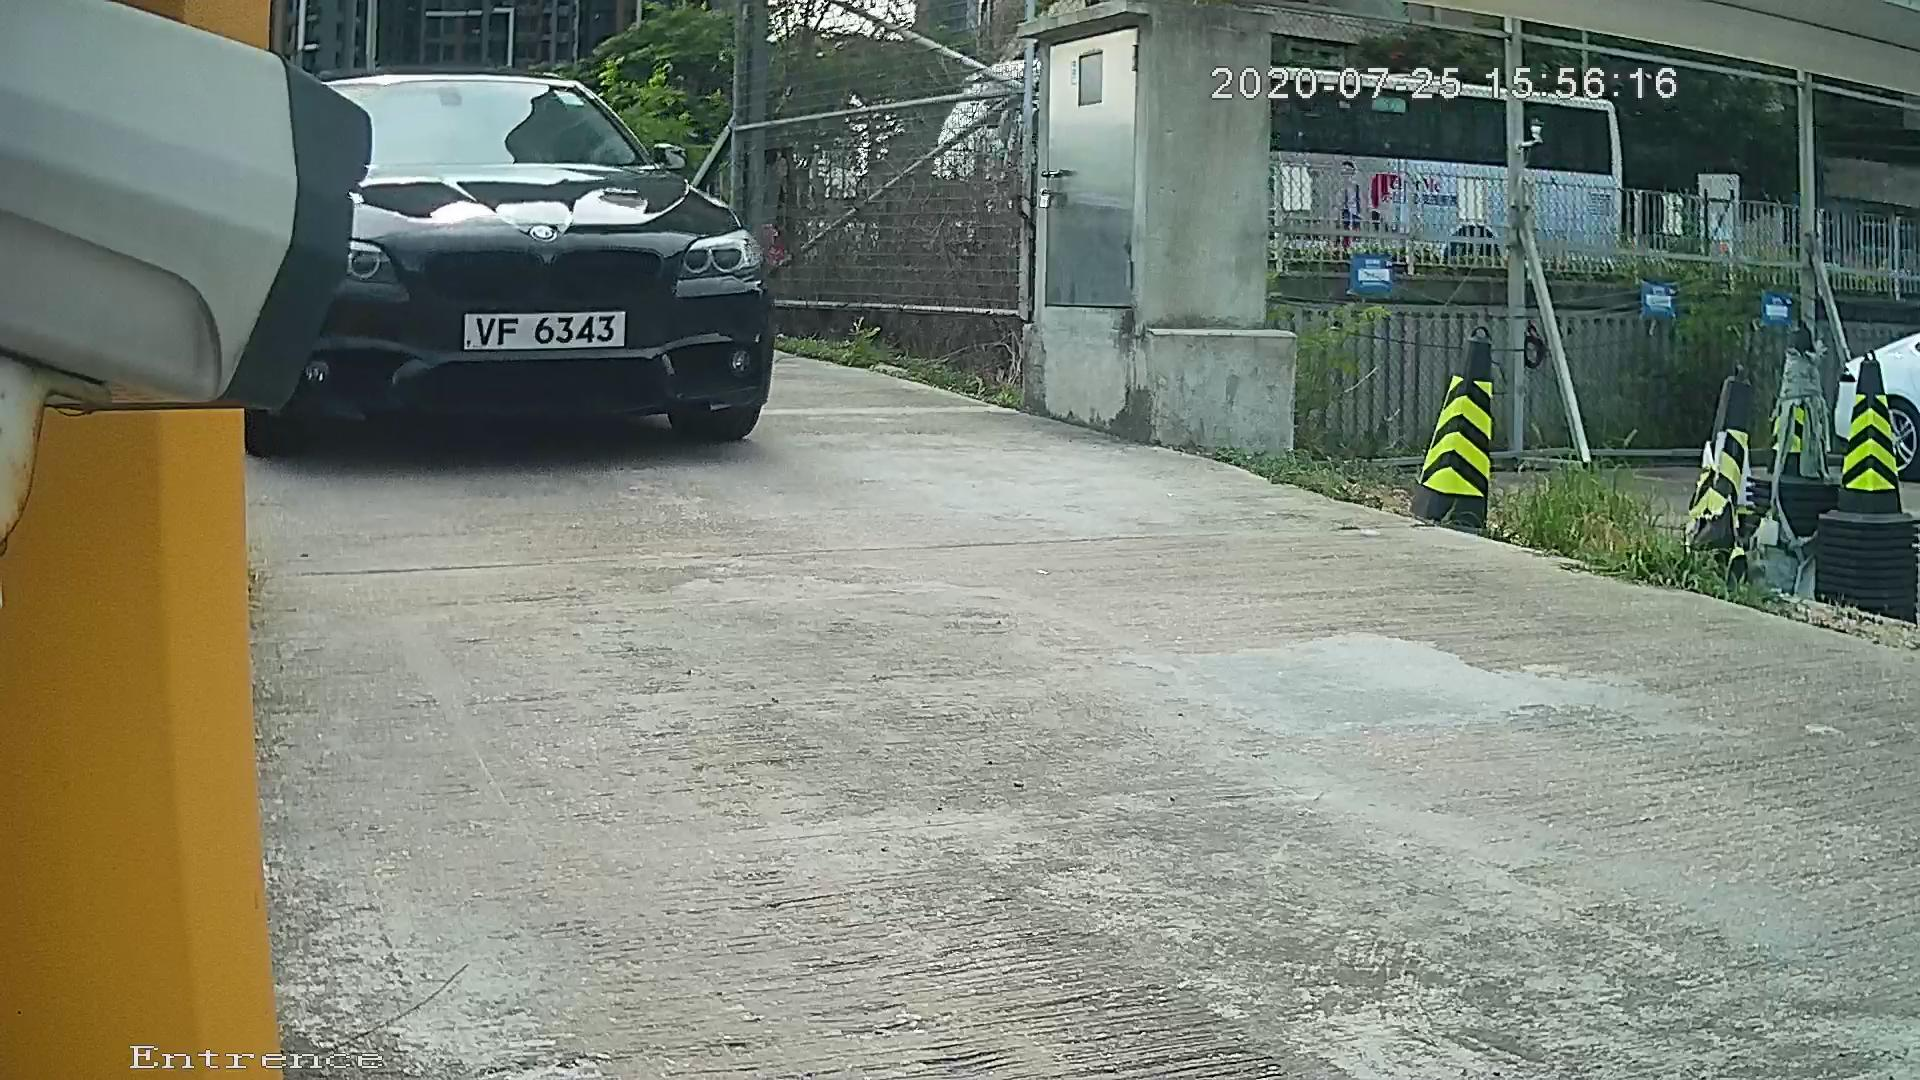Car: (215, 39, 986, 439)
License Plate: (434, 285, 655, 377)
